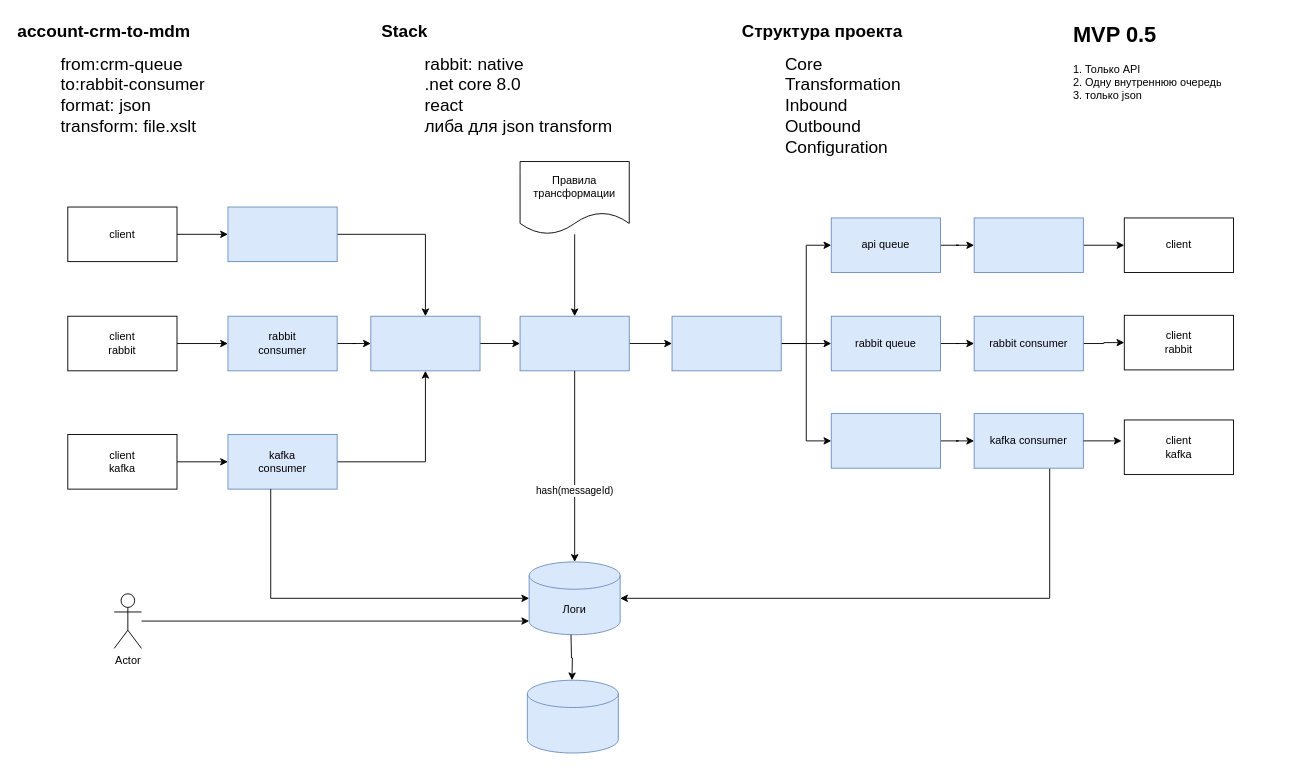
This 1296x769 diagram has some shape labels left out. Here are the shapes that lost their labels. From the top down, the centre of each, then its label:
At point (282, 234): "api".
At point (1028, 245): "api consumer".
At point (425, 343): "Очередь rabbit".
At point (574, 343): "Трансформируем".
At point (726, 343): "Exchange".
At point (885, 440): "kafka queue".
At point (572, 716): "Холодное хранилище".
